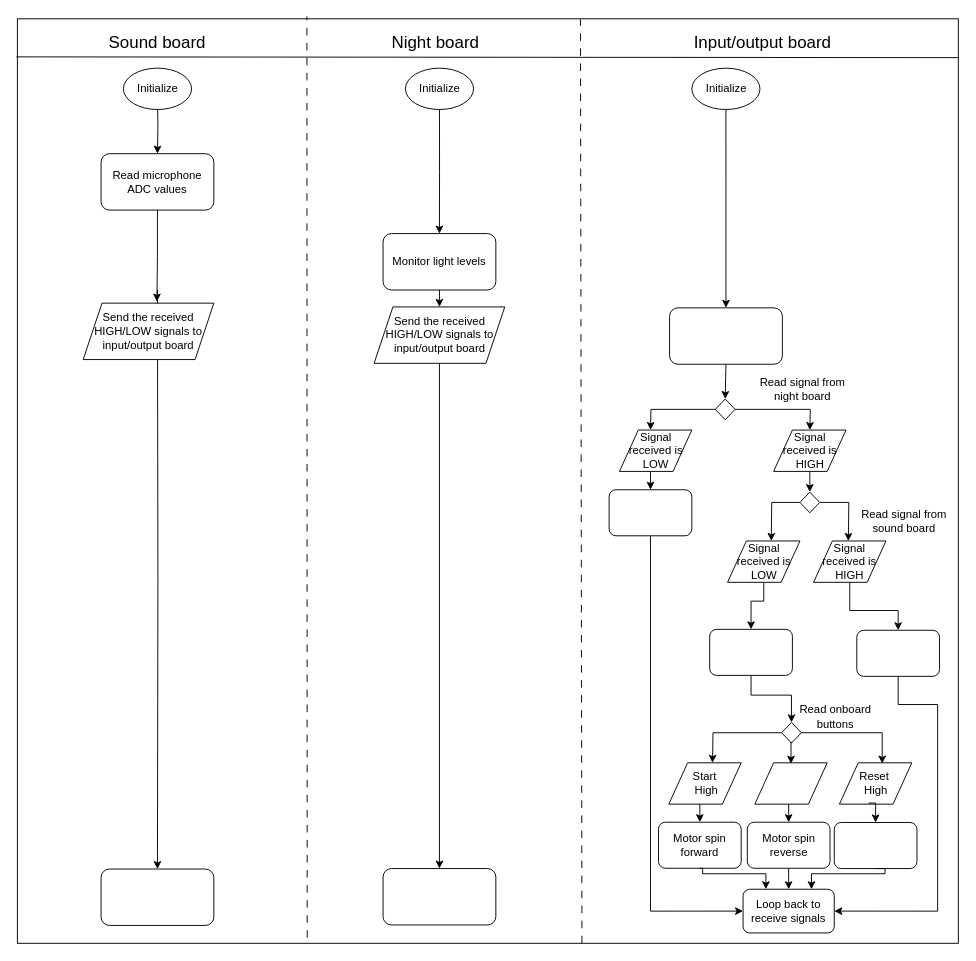
Some shapes in this 976 by 961 pixel diagram are drawn without their labels. The shapes that lost their labels are listed below. From the top down, each one's centre as x and y in pixels, then its label:
pixel 725 335: Receive signals
pixel 650 512: Keep motor off
pixel 750 651: Turn on motor
pixel 898 652: Activate light, stop motor
pixel 790 783: End High
pixel 875 845: Stop motor
pixel 157 896: Loop back to reading microphone ADC values
pixel 439 896: Loop back to monitoring light levels
